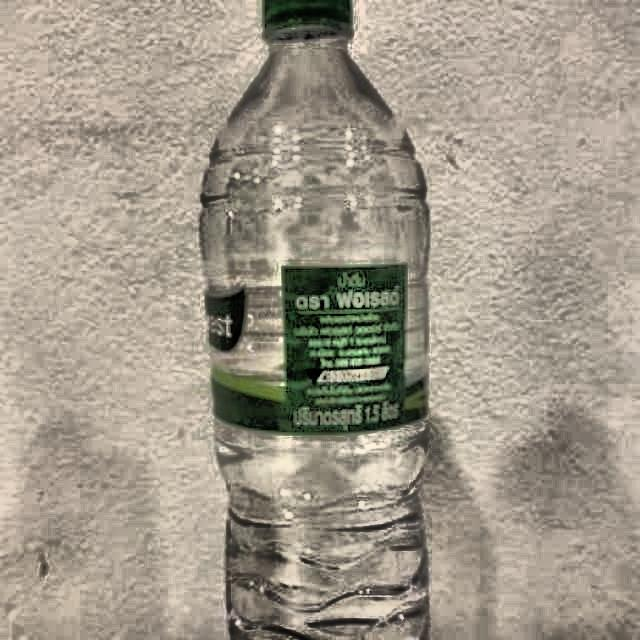Bottles: (163, 1, 465, 640)
